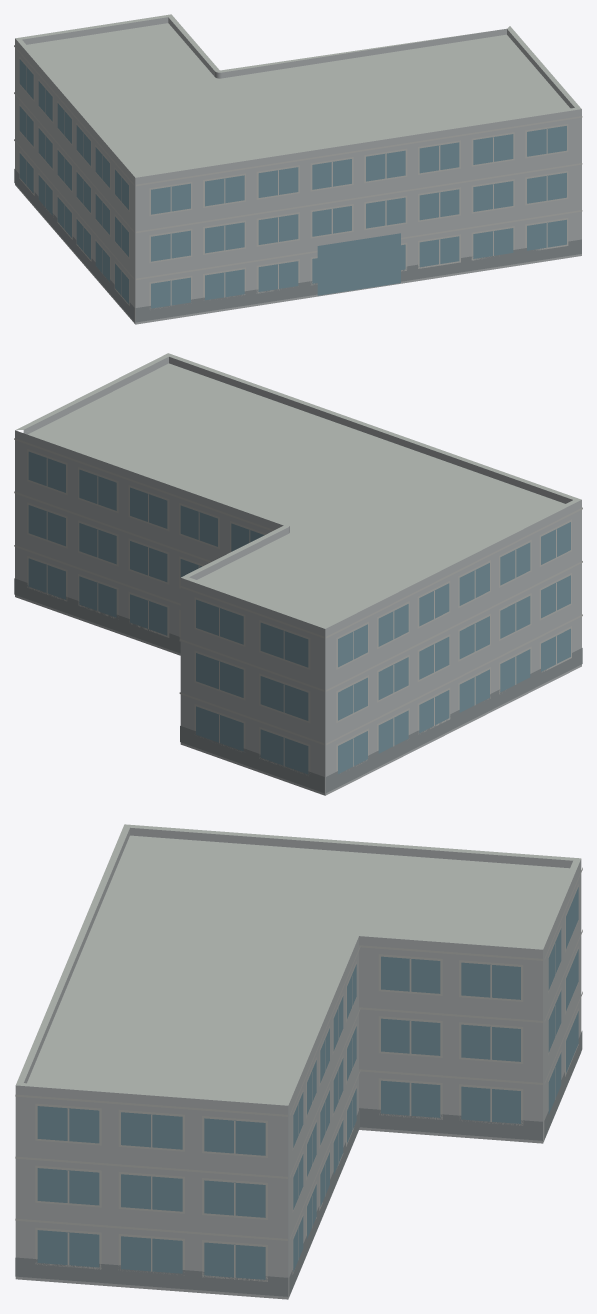
Rendered from public-247d75a4-8725-4698-8025-5835bed68908.glb.
The picture shows the model from 3 angles, top to bottom: view 1: azimuth 30°, elevation 25°; view 2: azimuth 150°, elevation 25°; view 3: azimuth 270°, elevation 25°; orthographic projection. The views are drawn at different scales.
Parts seen in each view (by area): view 1: public-247d75a4-8725-4698-8025-5835bed68908; view 2: public-247d75a4-8725-4698-8025-5835bed68908; view 3: public-247d75a4-8725-4698-8025-5835bed68908.
Boxes of the visible parts, x1,y1,x2,y2 form: public-247d75a4-8725-4698-8025-5835bed68908: (14,14,582,324); public-247d75a4-8725-4698-8025-5835bed68908: (14,353,582,795); public-247d75a4-8725-4698-8025-5835bed68908: (15,824,582,1299).
Bounding box in the file's own units: 28.62 × 9.15 × 24.34.
